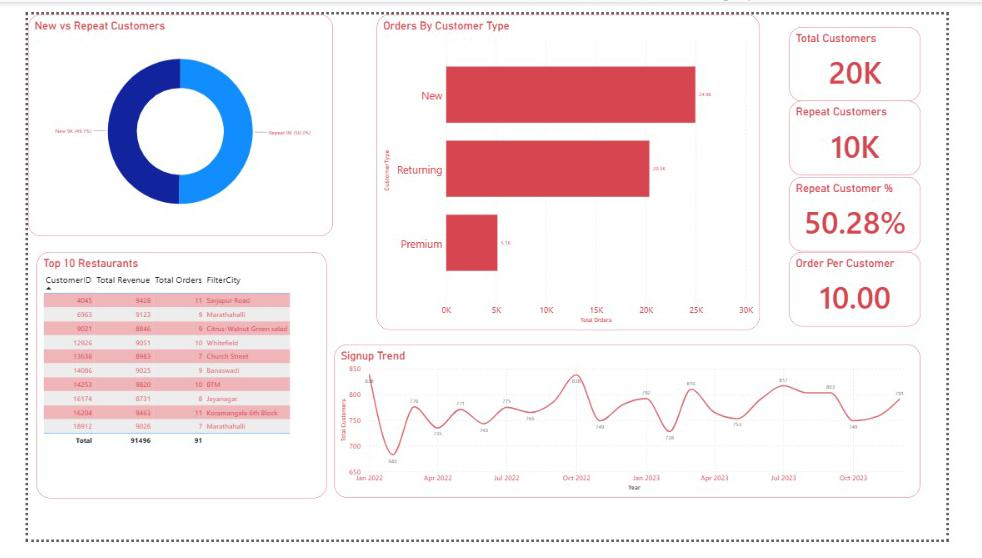

This screenshot's page, from the dashboard's own definition file:
{"tool":"powerbi","page":{"name":"Customer Analytics","canvas":[2100,1200],"ordinal":1},"visuals":[{"type":"cardVisual","title":"Total Customers","fields":{"Data":["Orders.Total Customers"]},"box":[1738.9,28.3,300,170],"z":0},{"type":"cardVisual","title":"Repeat Customers","fields":{"Data":["Orders.Repeat Customers"]},"box":[1738.9,198.3,300,170],"z":1000},{"type":"cardVisual","title":"Repeat Customer  %","fields":{"Data":["Orders.Repeat Customer %"]},"box":[1738.9,371.7,300,170],"z":2000},{"type":"cardVisual","title":"Order Per Customer","fields":{"Data":["Orders.Orders Per Customer"]},"box":[1738.9,541.7,300,170],"z":3000},{"type":"lineChart","title":"Signup Trend","fields":{"Category":["Customers.SignupDate.Variation.Date Hierarchy.Year","Customers.SignupDate.Variation.Date Hierarchy.Month"],"Y":["Orders.Total Customers"]},"box":[700,755.3,1339.5,350],"z":5000},{"type":"barChart","title":"Orders By Customer Type","fields":{"Y":["Orders.Total Orders"],"Category":["Customers.CustomerType"]},"box":[795.8,0,875,720.8],"z":6000},{"type":"donutChart","title":"New vs Repeat Customers","fields":{"Category":["Customers.RepeatedvsNew"],"Y":["Orders.Total Customers"]},"box":[0,0,696.7,506.7],"z":7000},{"type":"tableEx","title":"Top 10 Restaurants","fields":{"Values":["Orders.CustomerID","Orders.Total Revenue","Orders.Total Orders","Customers.FilterCity"]},"box":[20.8,541.7,662.5,562.5],"z":8000}]}

Visuals, with their boxes in screenshot pixels (x1, y1, x2, y2), scaled from the page's 2100x1200 canvas onto the 982x558 screenshot:
"Total Customers" cardVisual: <region>813, 13, 953, 92</region>
"Repeat Customers" cardVisual: <region>813, 92, 953, 171</region>
"Repeat Customer  %" cardVisual: <region>813, 173, 953, 252</region>
"Order Per Customer" cardVisual: <region>813, 252, 953, 331</region>
"Signup Trend" lineChart: <region>327, 351, 954, 514</region>
"Orders By Customer Type" barChart: <region>372, 0, 781, 335</region>
"New vs Repeat Customers" donutChart: <region>0, 0, 326, 236</region>
"Top 10 Restaurants" tableEx: <region>10, 252, 320, 513</region>
